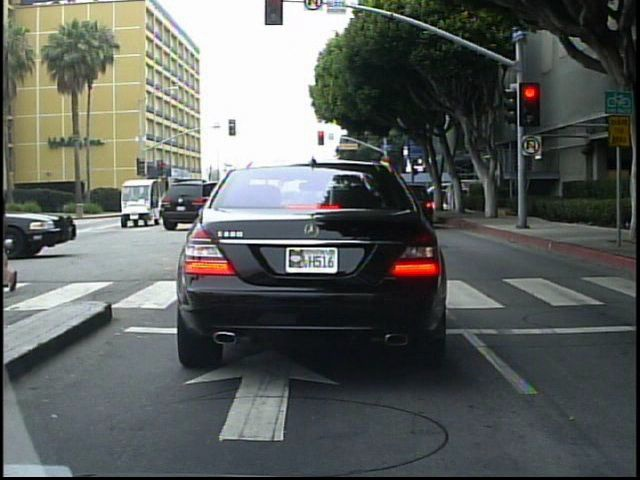person: (444, 180, 456, 211)
